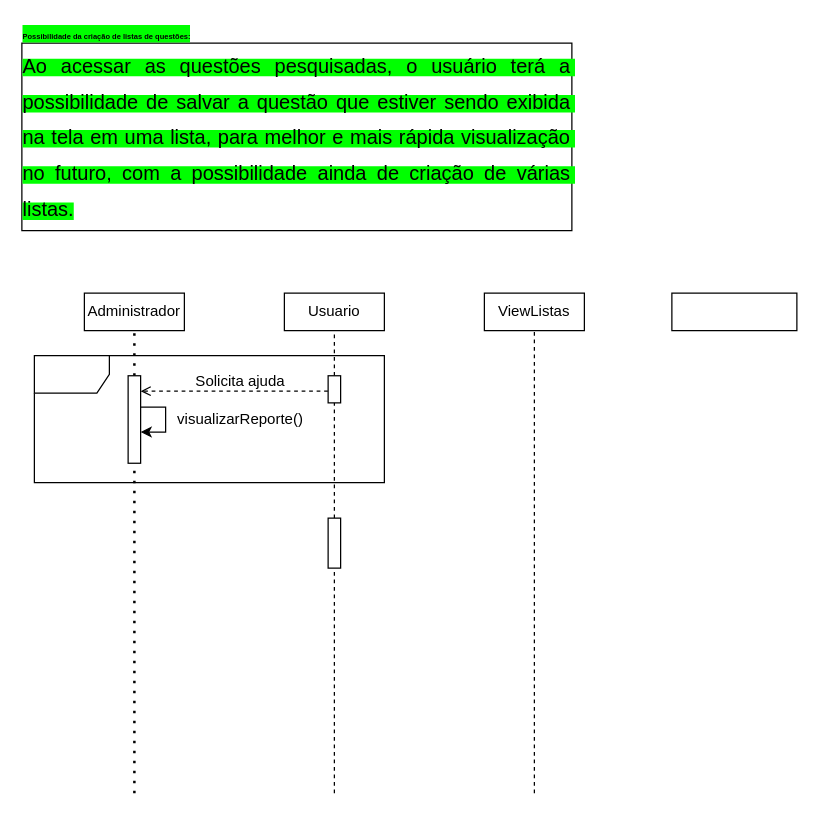
Some shapes in this 819 by 818 pixel diagram are drawn without their labels. Here are the shapes that lost their labels. From the top down, the box of each, then its label:
(671, 292, 797, 331): ViewController
(33, 354, 384, 482): opt
